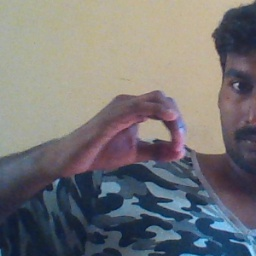O: (49, 88, 192, 179)
